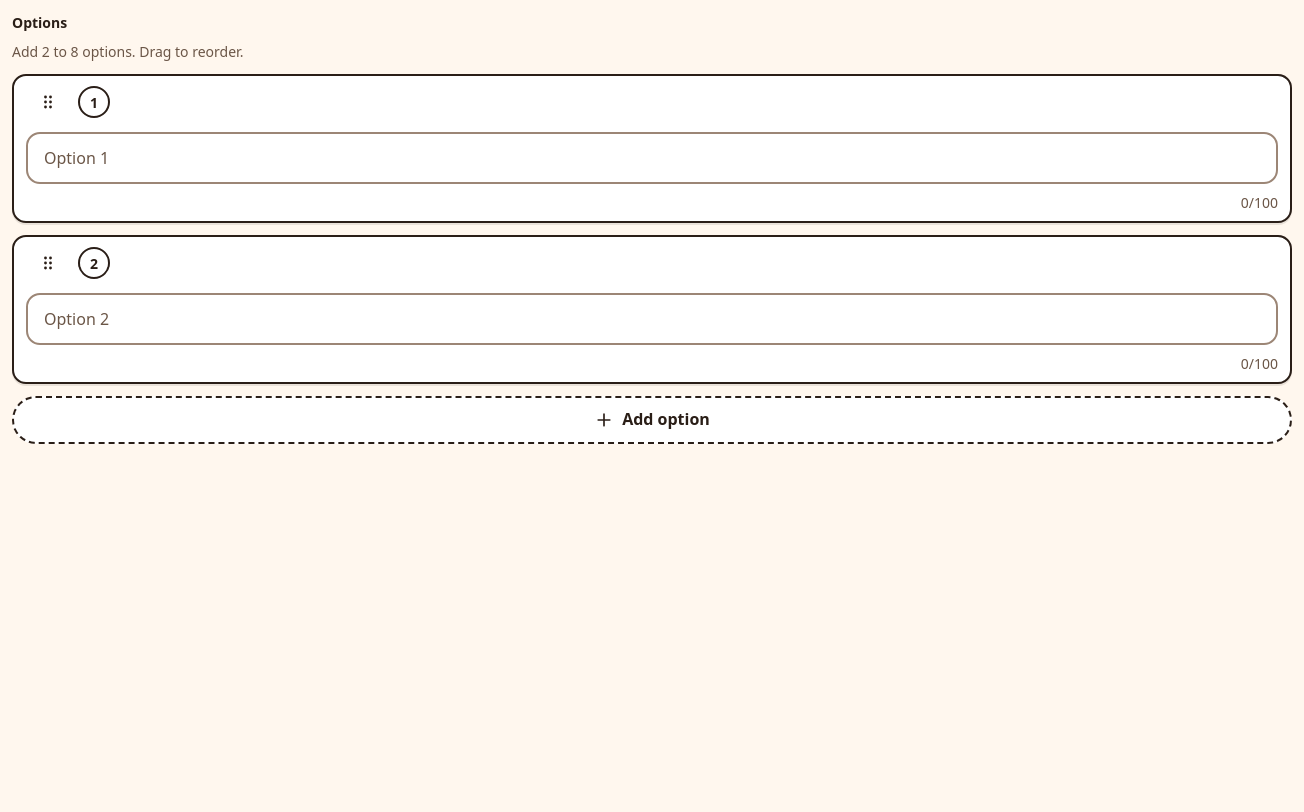
Test case: OptionListEditor › Add option appends an empty option, focuses it, and shows remove buttons
Click the button "Add option": click(652, 420) [12, 396, 1292, 444]
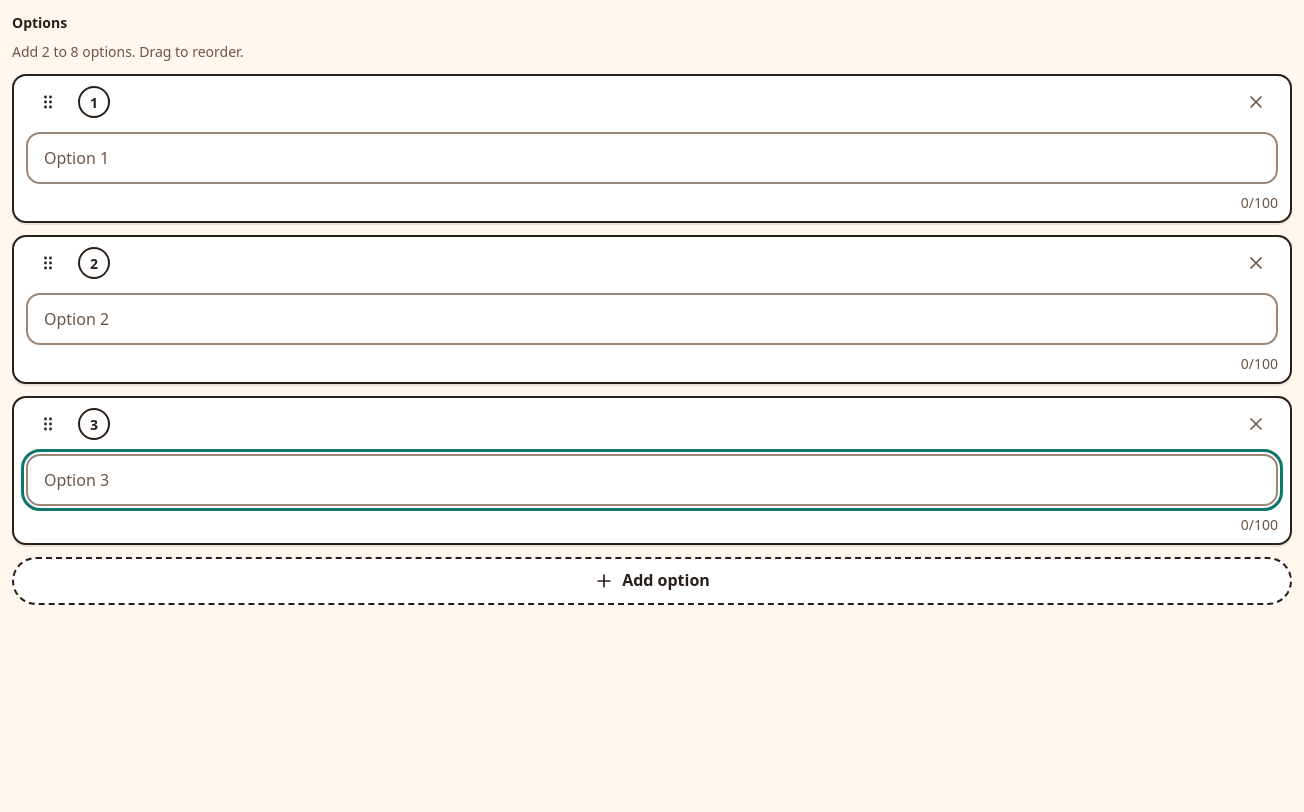
Expected: the number of text boxes is 3, [26, 132, 1278, 184]; [26, 293, 1278, 345]; [26, 454, 1278, 506]
Expected: the text box named "Option 3" is empty, [26, 454, 1278, 506]
Expected: the button named "Remove option 1" is shown, [1234, 80, 1278, 124]
